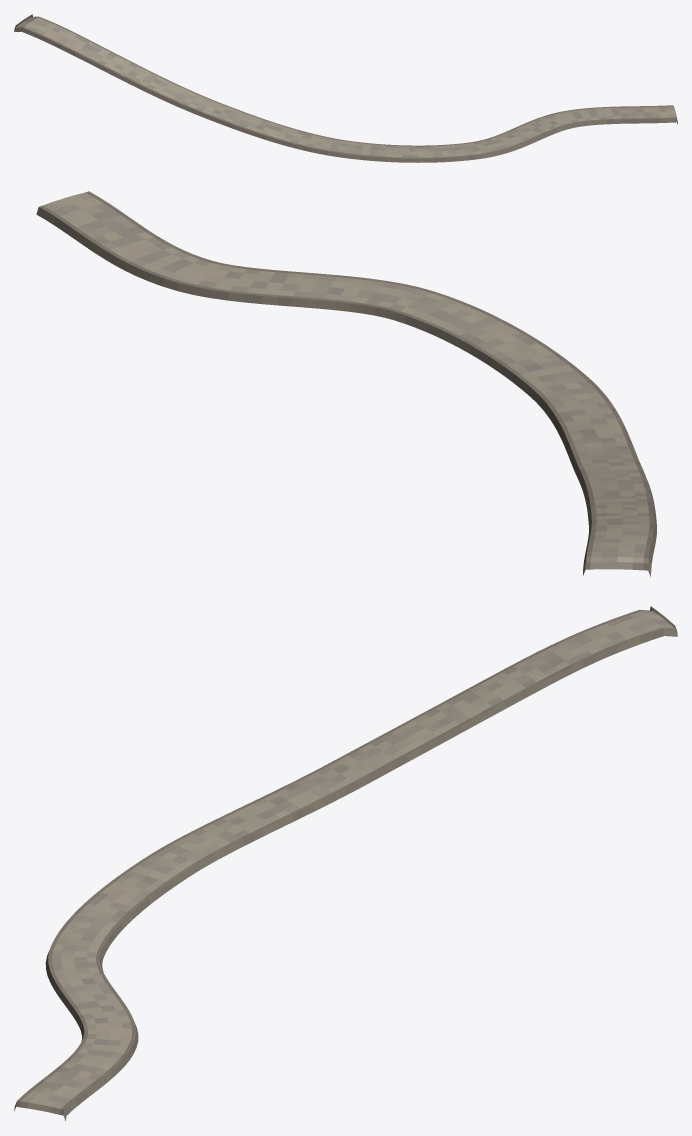
Rendered from road_west_road.glb.
The picture shows the model from 3 angles, top to bottom: view 1: azimuth 30°, elevation 25°; view 2: azimuth 150°, elevation 25°; view 3: azimuth 270°, elevation 25°; orthographic projection. The views are drawn at different scales.
Parts seen in each view (by area): view 1: road_west_road; view 2: road_west_road; view 3: road_west_road.
Boxes of the visible parts, x1,y1,x2,y2 form: road_west_road: (14,14,677,162); road_west_road: (36,191,656,577); road_west_road: (14,606,677,1120).
Bounding box in the file's own units: 215 × 31.92 × 154.
1 material, 1 textured.
